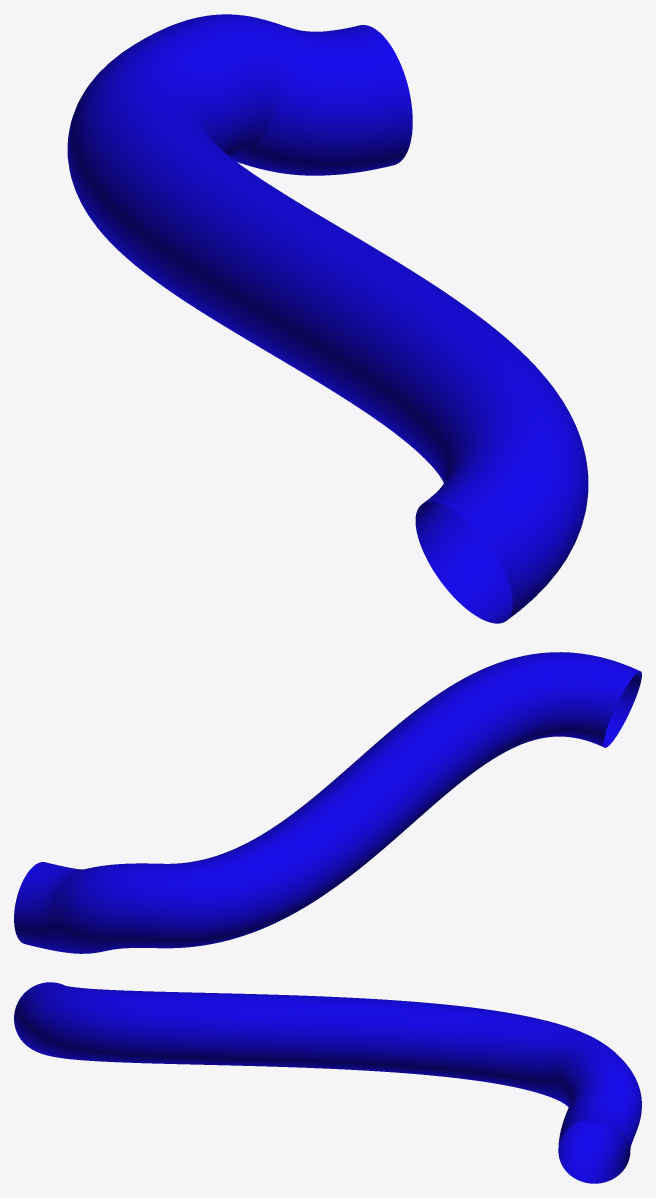
The model's file is cable pequeño.fbx.
3 renders of one model, top to bottom at view 1: azimuth 30°, elevation 25°; view 2: azimuth 150°, elevation 25°; view 3: azimuth 270°, elevation 25°, orthographic. The views are drawn at different scales.
Parts seen in each view (by area): view 1: BézierCurve.001; view 2: BézierCurve.001; view 3: BézierCurve.001.
Part boxes in pixels (bbox=[...]): BézierCurve.001: bbox=[67, 14, 588, 623]; BézierCurve.001: bbox=[14, 652, 641, 953]; BézierCurve.001: bbox=[14, 982, 641, 1183].
Size of the model in its own units: 17.87 by 7.68 by 40.61.
